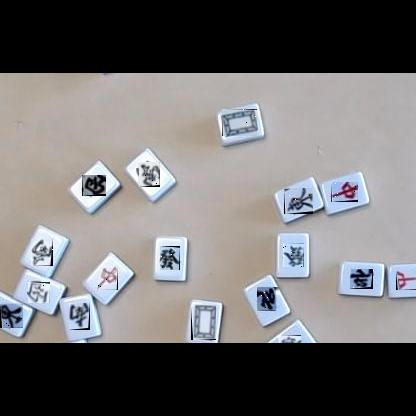1z: (284, 188, 313, 214), (0, 303, 23, 328)
2z: (31, 238, 53, 266), (69, 303, 90, 330), (138, 162, 160, 187)
3z: (82, 175, 106, 196), (28, 282, 50, 303)
4z: (258, 287, 280, 311), (350, 269, 373, 289), (278, 335, 301, 343)
5z: (222, 109, 257, 136), (191, 305, 216, 340)
6z: (283, 243, 304, 267), (160, 246, 180, 270)
7z: (331, 182, 358, 202), (98, 266, 118, 290), (396, 270, 416, 290)
